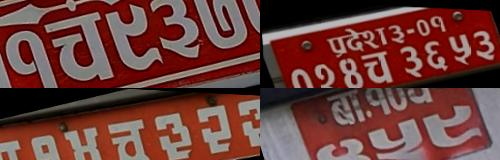0: (230, 0, 260, 39), (282, 63, 318, 88), (379, 88, 410, 113), (412, 14, 433, 38)
1: (0, 20, 62, 88), (23, 124, 75, 160), (358, 88, 393, 120), (0, 31, 19, 88), (426, 11, 450, 35)
2: (187, 94, 242, 158), (306, 57, 344, 88)
3: (144, 0, 209, 61), (146, 100, 201, 160), (228, 90, 260, 151), (391, 40, 428, 81), (465, 23, 500, 63), (384, 21, 408, 45)
4: (53, 114, 114, 160), (307, 129, 377, 160), (333, 53, 368, 88)
5: (362, 111, 431, 160), (442, 28, 480, 69)
6: (418, 35, 454, 77)
7: (184, 0, 254, 53)
9: (99, 0, 166, 73), (417, 94, 487, 155)
ba: (322, 88, 371, 133), (0, 130, 37, 160)
cha: (40, 3, 120, 88), (100, 106, 161, 160), (356, 46, 401, 88), (395, 88, 436, 108)
